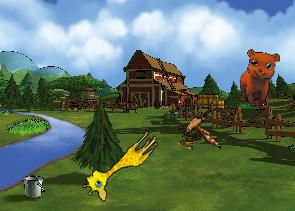bear: (239, 49, 281, 107)
eagle: (174, 108, 225, 149)
giraffe: (78, 120, 162, 206)
